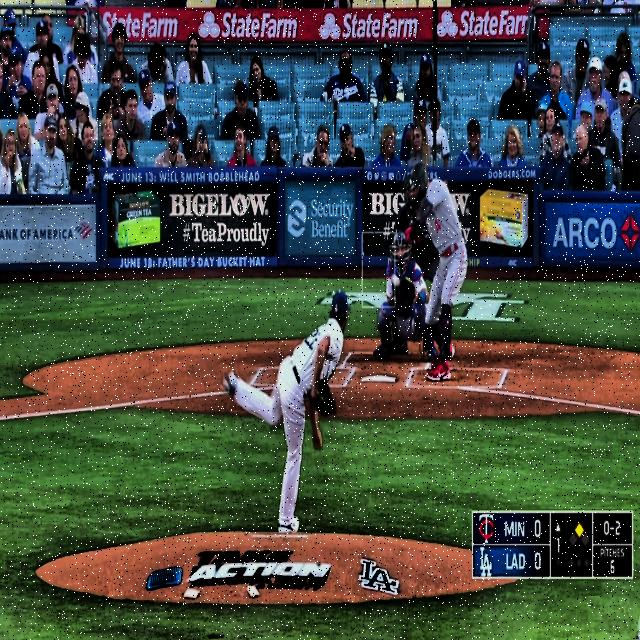baseball: (391, 272, 401, 289)
